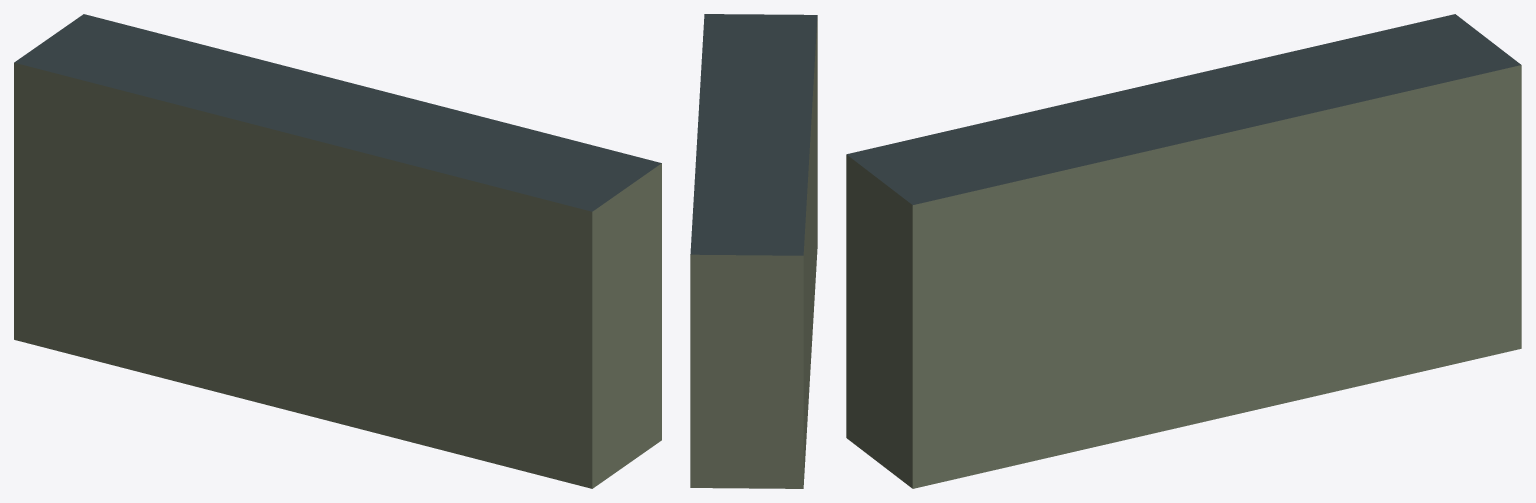
The model's file is nyc-1022623-0.glb.
The picture shows the model from 3 angles, left to right: view 1: azimuth 30°, elevation 25°; view 2: azimuth 150°, elevation 25°; view 3: azimuth 270°, elevation 25°; orthographic projection. The views are drawn at different scales.
Parts seen in each view (by area): view 1: nyc-1022623-0; view 2: nyc-1022623-0; view 3: nyc-1022623-0.
Boxes of the visible parts, x1,y1,x2,y2 form: nyc-1022623-0: [14, 14, 661, 488]; nyc-1022623-0: [690, 14, 817, 488]; nyc-1022623-0: [846, 14, 1521, 488].
Size of the model in its own units: 24.18 by 16.73 by 36.08.
